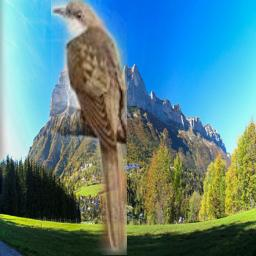Cuckoo: (51, 0, 127, 255)
